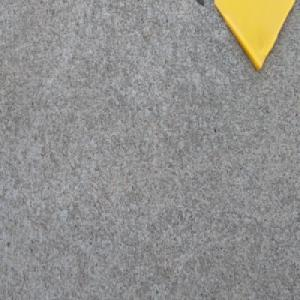PlasticPart: (211, 0, 300, 71)
